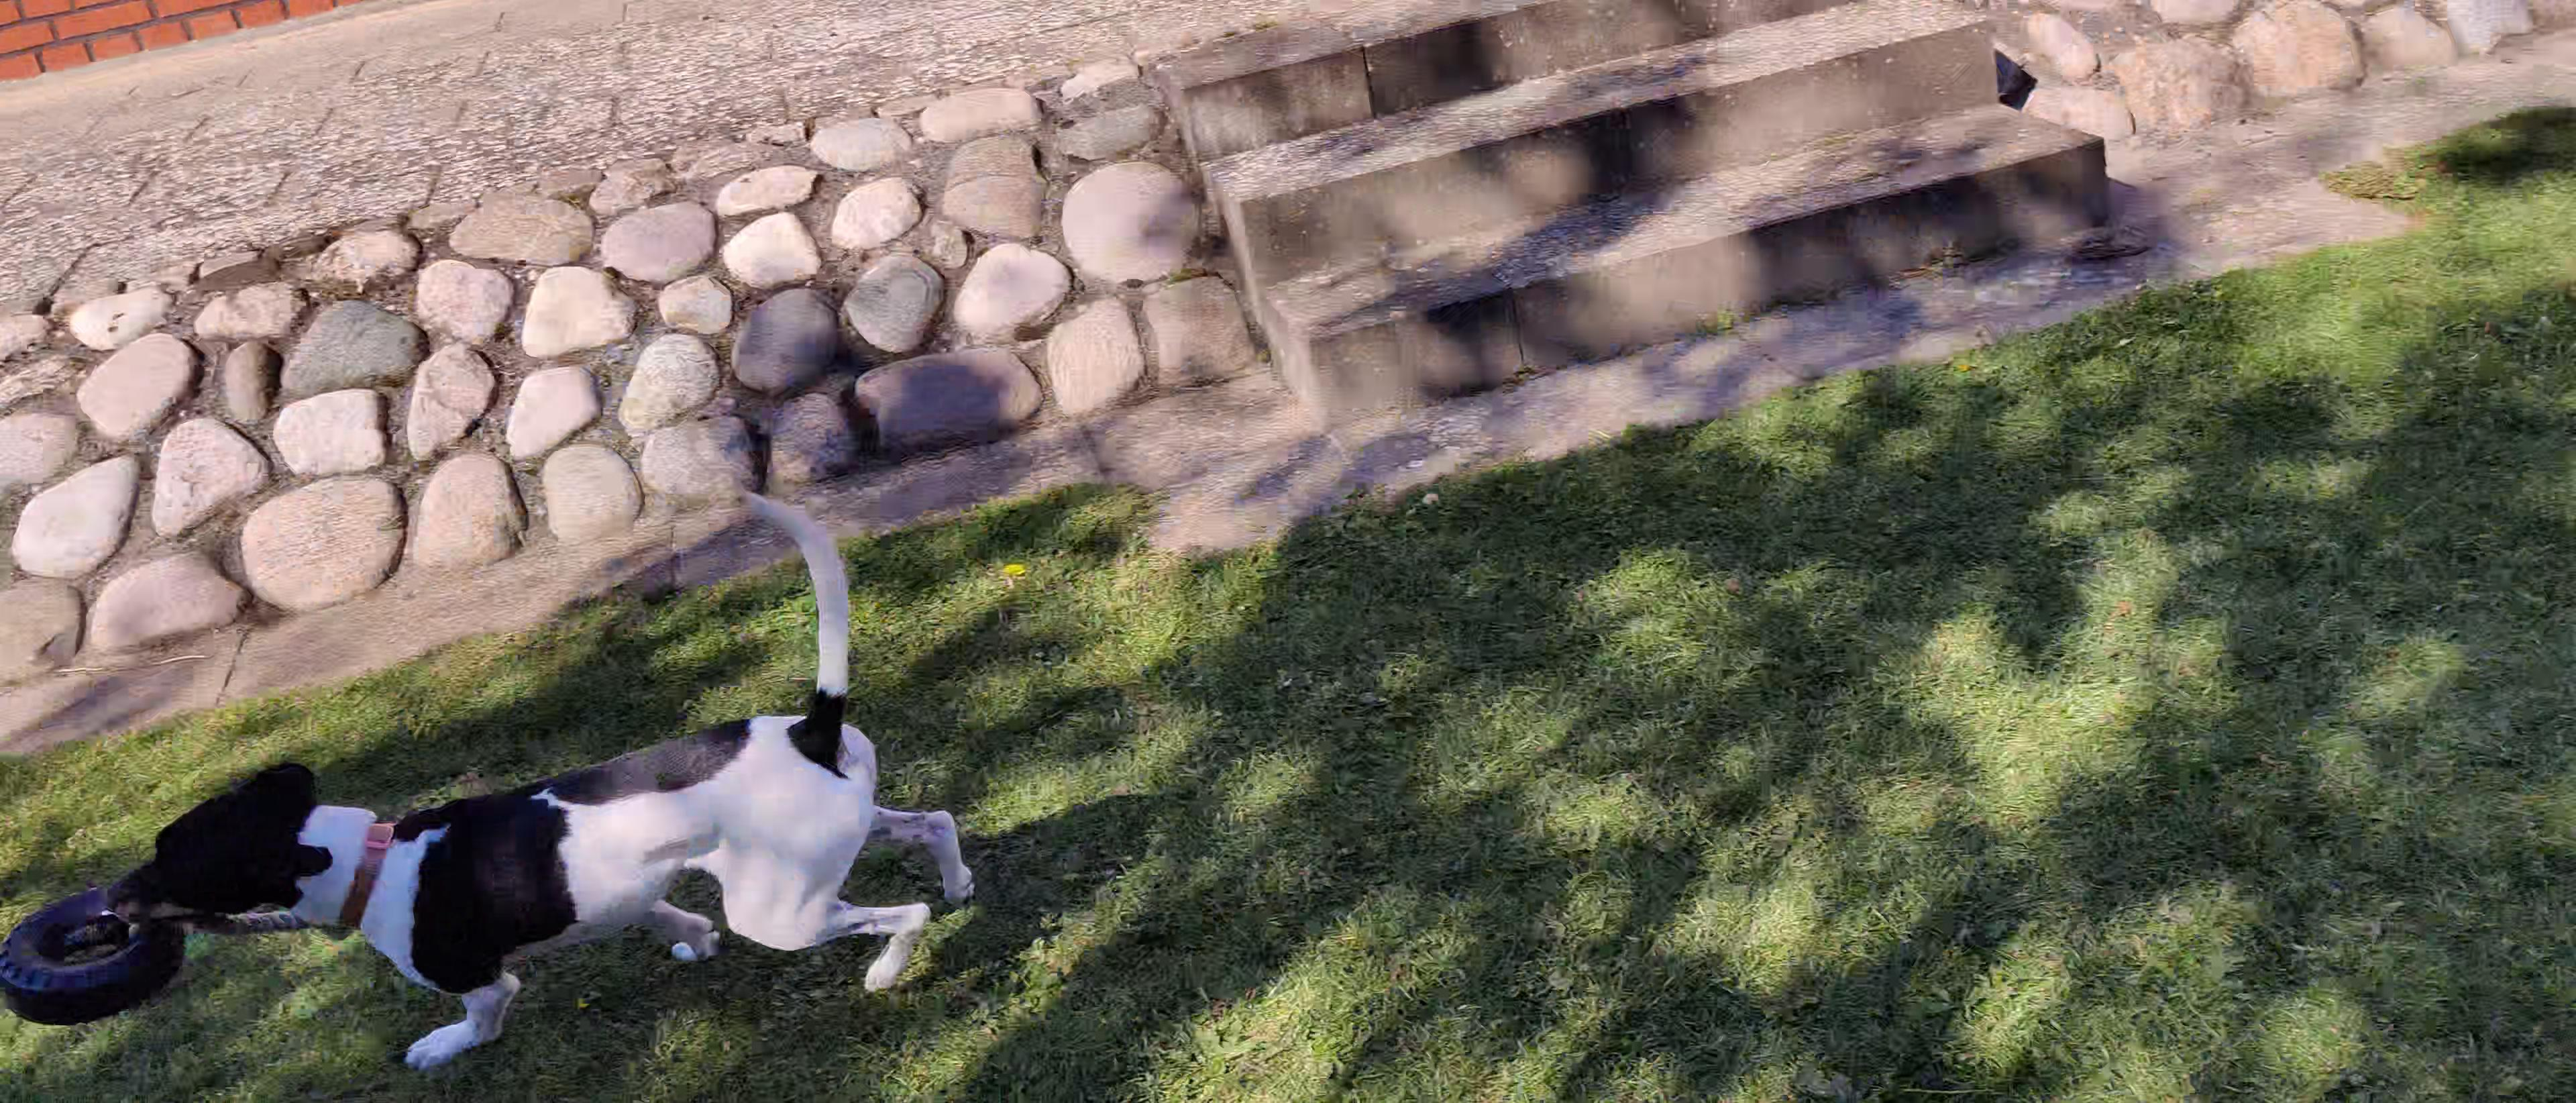Dog: (99, 485, 982, 1077)
